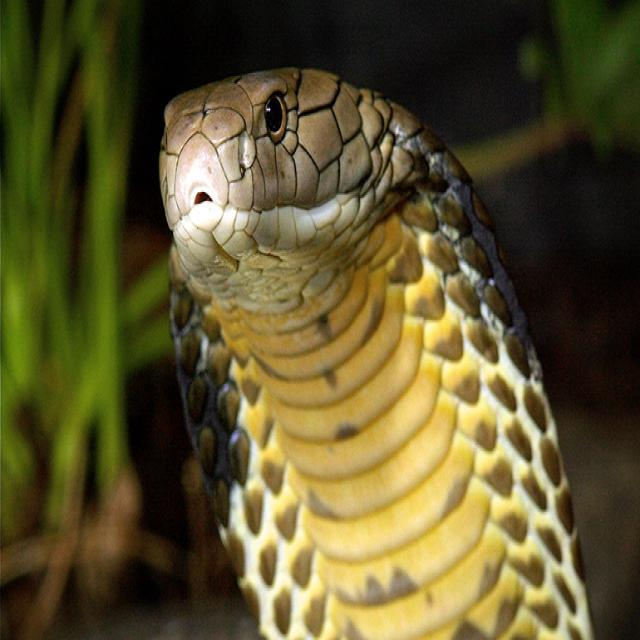Snake: (157, 62, 595, 638)
